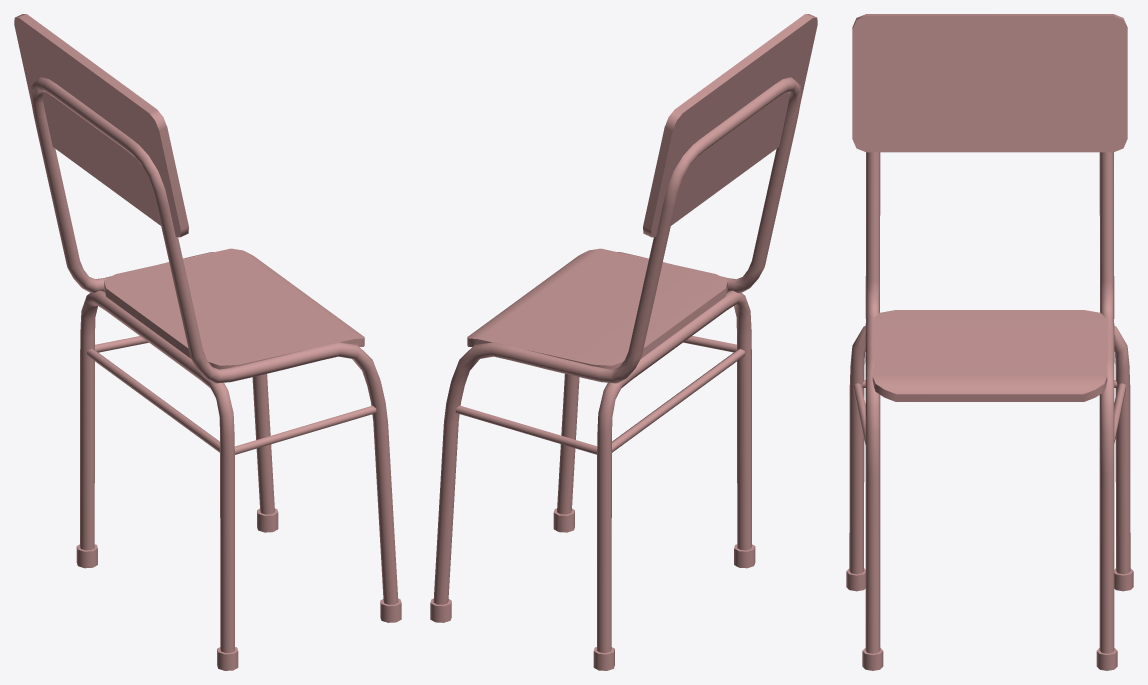
File: Silla 3.fbx
The picture shows the model from 3 angles, left to right: view 1: azimuth 30°, elevation 25°; view 2: azimuth 150°, elevation 25°; view 3: azimuth 270°, elevation 25°; orthographic projection. The views are drawn at different scales.
Visible parts, largest first — view 1: Silla_3; view 2: Silla_3; view 3: Silla_3.
Part boxes in pixels (box(x1,y1,x2,y2)): Silla_3: box(14, 14, 401, 670); Silla_3: box(430, 14, 817, 670); Silla_3: box(846, 14, 1133, 670).
Size of the model in its own units: 0.6145 by 1.31 by 0.6323.
